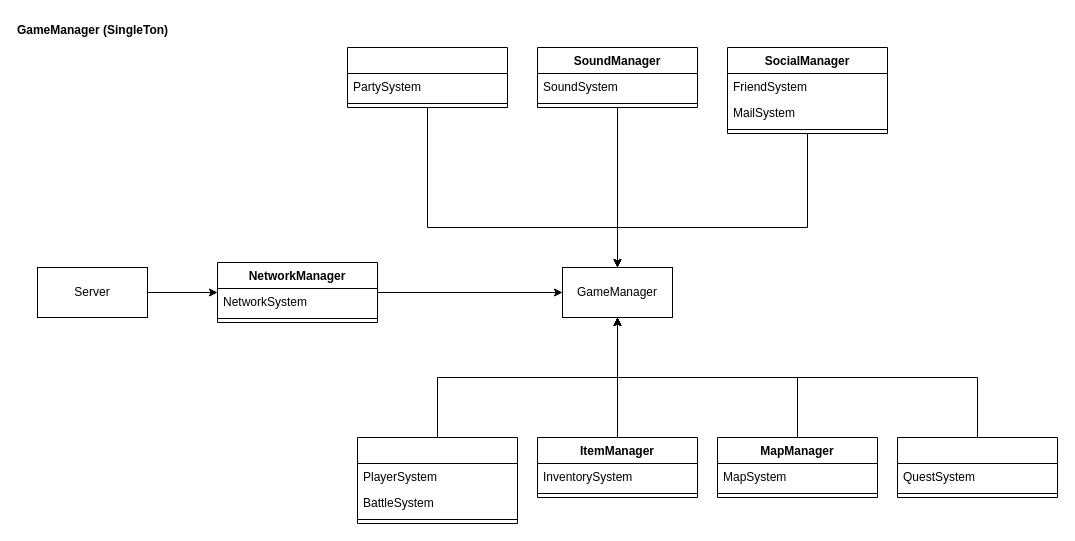
Image size: 1075x541. Some labels were removed from this diagram. The shapes that lost their labels are listed below. From the top down, each one's box as (x1, y1, x2, y2) in pixels, then its label:
(346, 46, 508, 108): PartyManager
(356, 436, 518, 524): PlayerManager
(896, 436, 1058, 498): QuestManager
